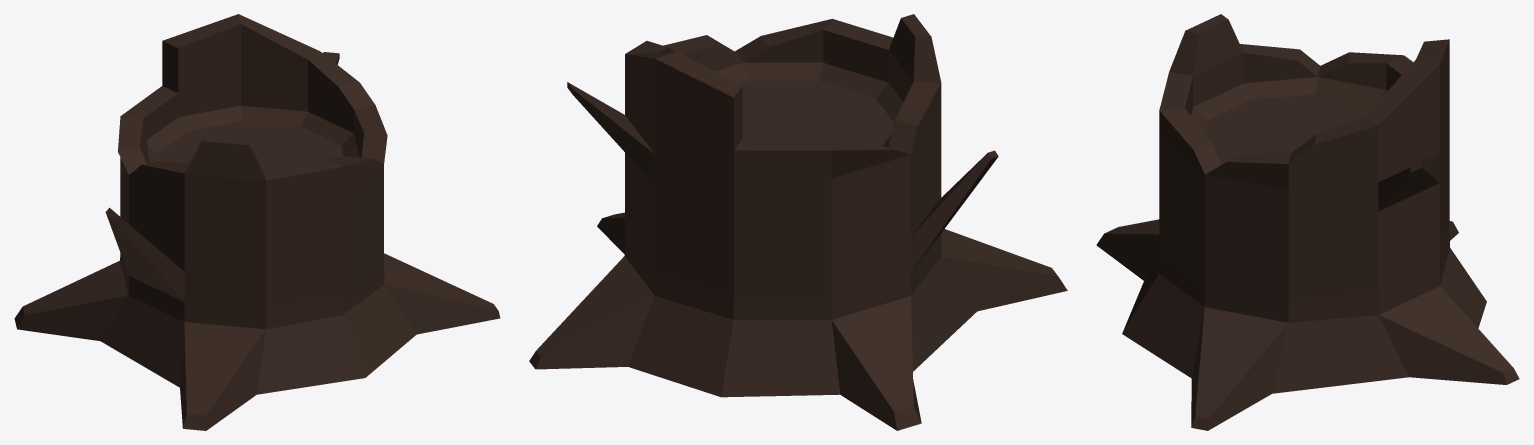
The model's file is TorTree3.fbx.
The picture shows the model from 3 angles, left to right: view 1: azimuth 30°, elevation 25°; view 2: azimuth 150°, elevation 25°; view 3: azimuth 270°, elevation 25°; orthographic projection. The views are drawn at different scales.
Parts seen in each view (by area): view 1: pCylinder3; view 2: pCylinder3; view 3: pCylinder3.
Part boxes in pixels (x1,y1,x2,y2): pCylinder3: (14,14,500,430); pCylinder3: (529,14,1067,430); pCylinder3: (1096,14,1519,430).
Size of the model in its own units: 3.25 by 2.12 by 2.86.
